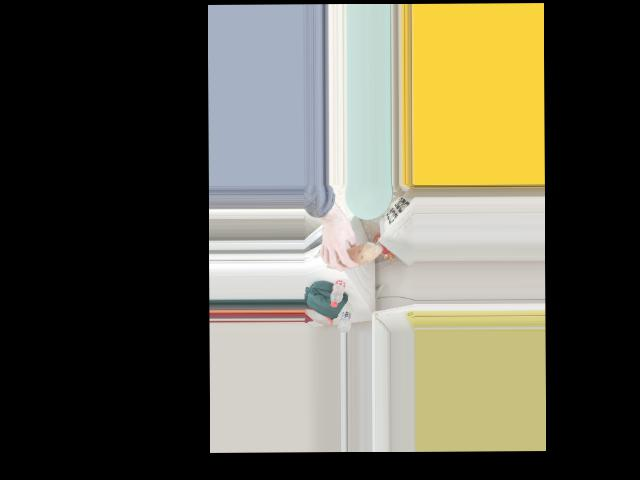sweet_potato: (323, 243, 380, 270)
